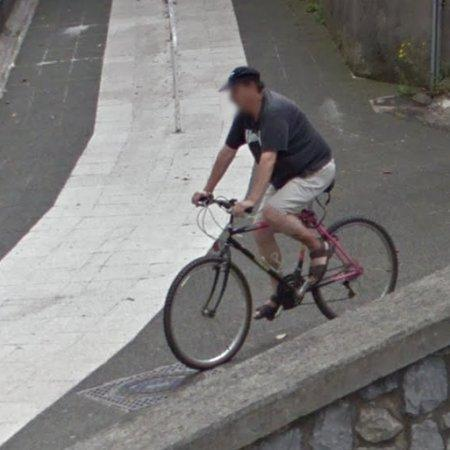bicycles: (164, 195, 399, 369)
